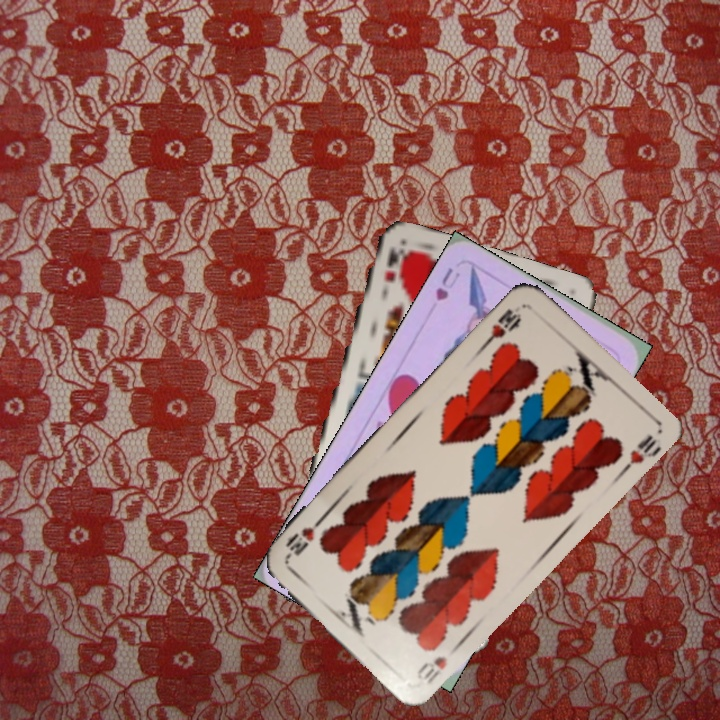H10: (413, 641, 461, 687), (480, 304, 524, 349)
HK: (380, 242, 408, 285)
HU: (431, 263, 463, 304)
